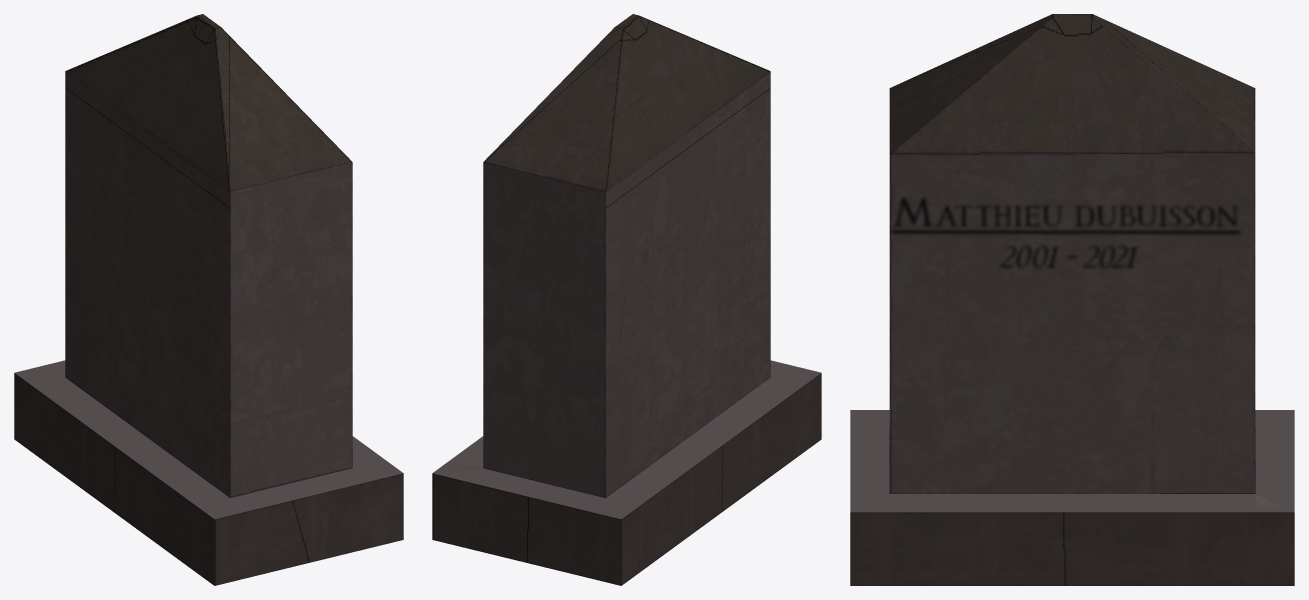
File: MatthieuGrave.fbx
3 renders of one model, left to right at view 1: azimuth 30°, elevation 25°; view 2: azimuth 150°, elevation 25°; view 3: azimuth 270°, elevation 25°, orthographic. The views are drawn at different scales.
Parts seen in each view (by area): view 1: Box001; view 2: Box001; view 3: Box001.
Boxes of the visible parts, x1,y1,x2,y2 form: Box001: (14,14,403,585); Box001: (432,14,821,585); Box001: (850,14,1294,585).
Bounding box in the file's own units: 36.15 × 85.47 × 66.32.
1 material, 1 textured.
